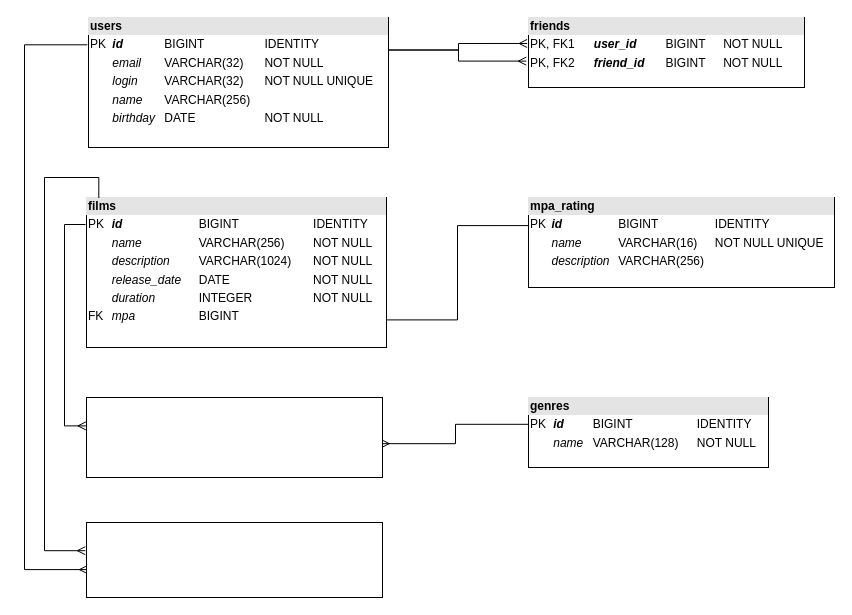
Some shapes in this 852 by 615 pixel diagram are drawn without their labels. Here are the shapes that lost their labels. From the top down, the centre of each, then its label:
point 234,437: film_genre PK, FK1 film_id BIGINT NOT NULL PK, FK2 genre_id BIGINT NOT NULL
point 234,560: likes PK, FK1 film_id BIGINT NOT NULL PK, FK2 user_id BIGINT NOT NULL
